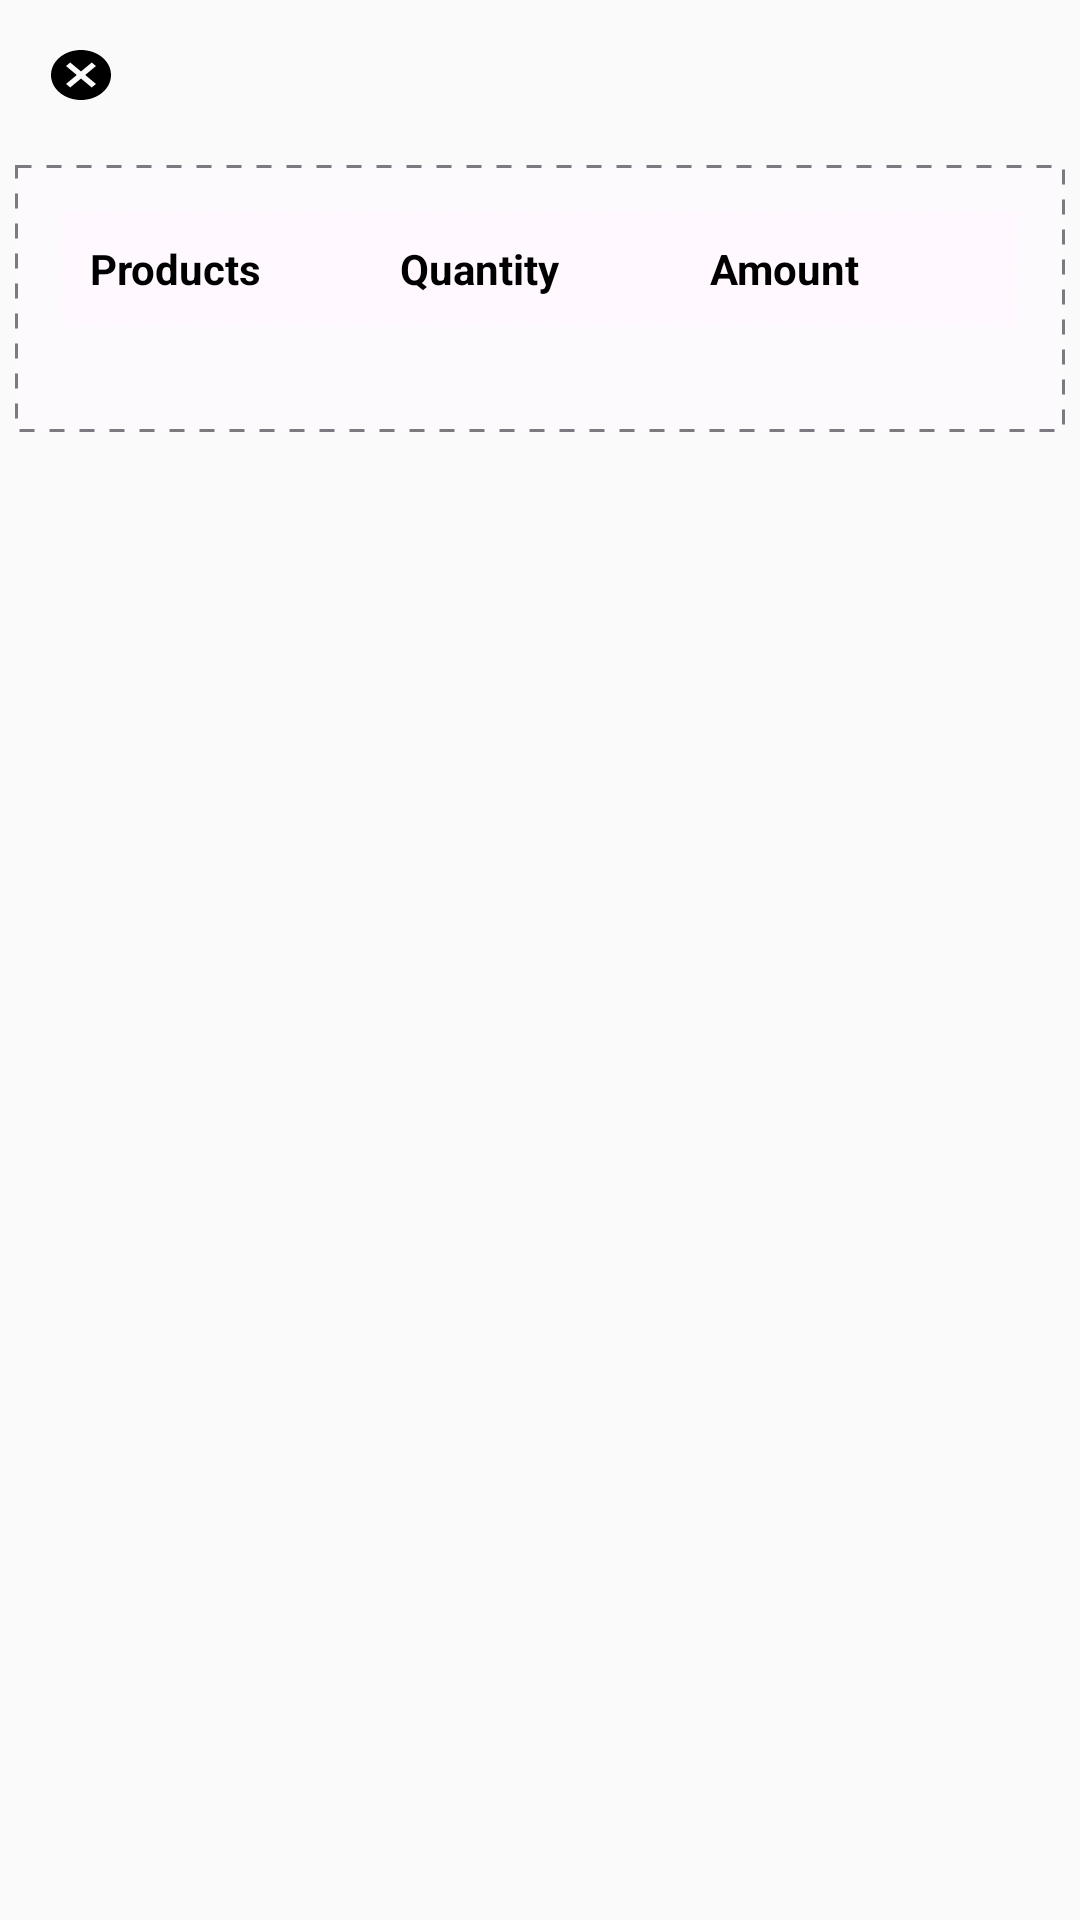

Icon click points for this 1080 x 1920 phone screenshot, format (x,y):
cancel: (81,75)
